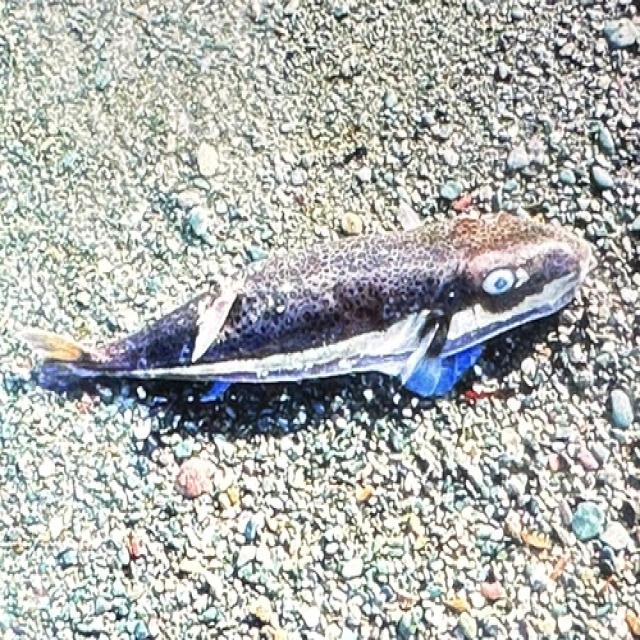Balik: (26, 213, 592, 399)
